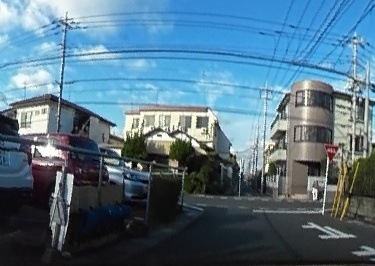person: (310, 177, 319, 202)
